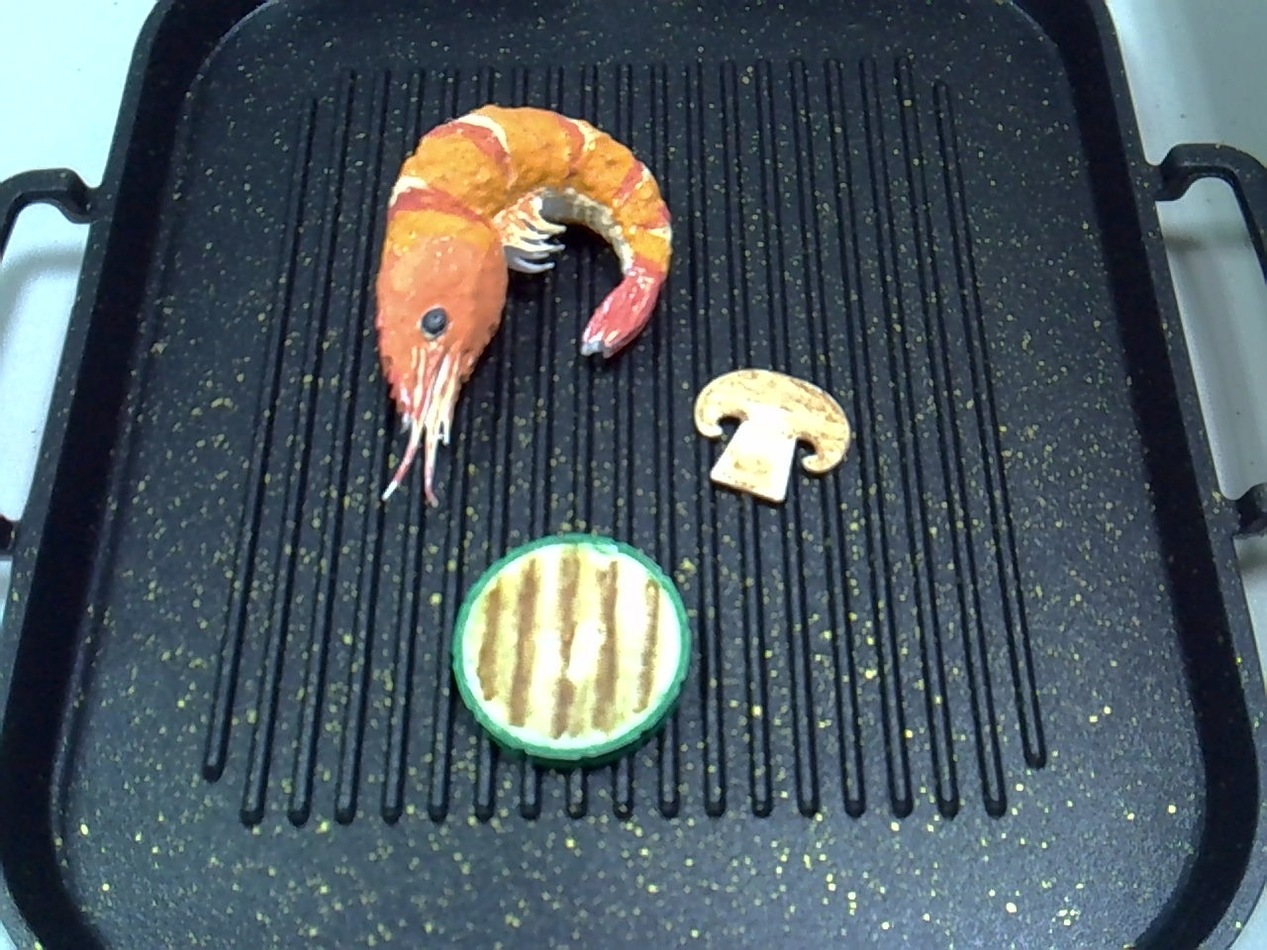mushroom_cooked: (689, 343, 860, 514)
shrimp_cooked: (361, 80, 678, 515)
zucchini_cooked: (422, 525, 701, 774)
